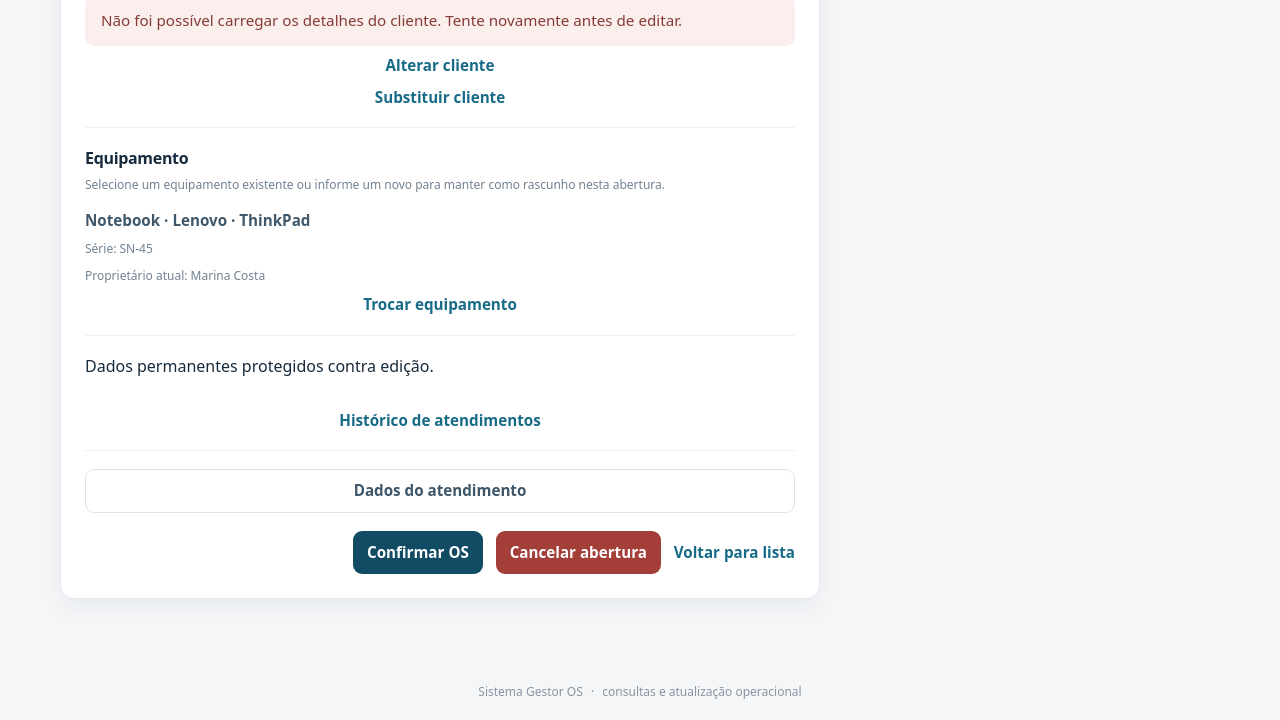
Test: confirma a abertura e navega ao detalhe, que busca a OS novamente por publicId
(page scrolled)
Click the button "Confirmar OS" at (418, 553), box [353, 531, 483, 574]
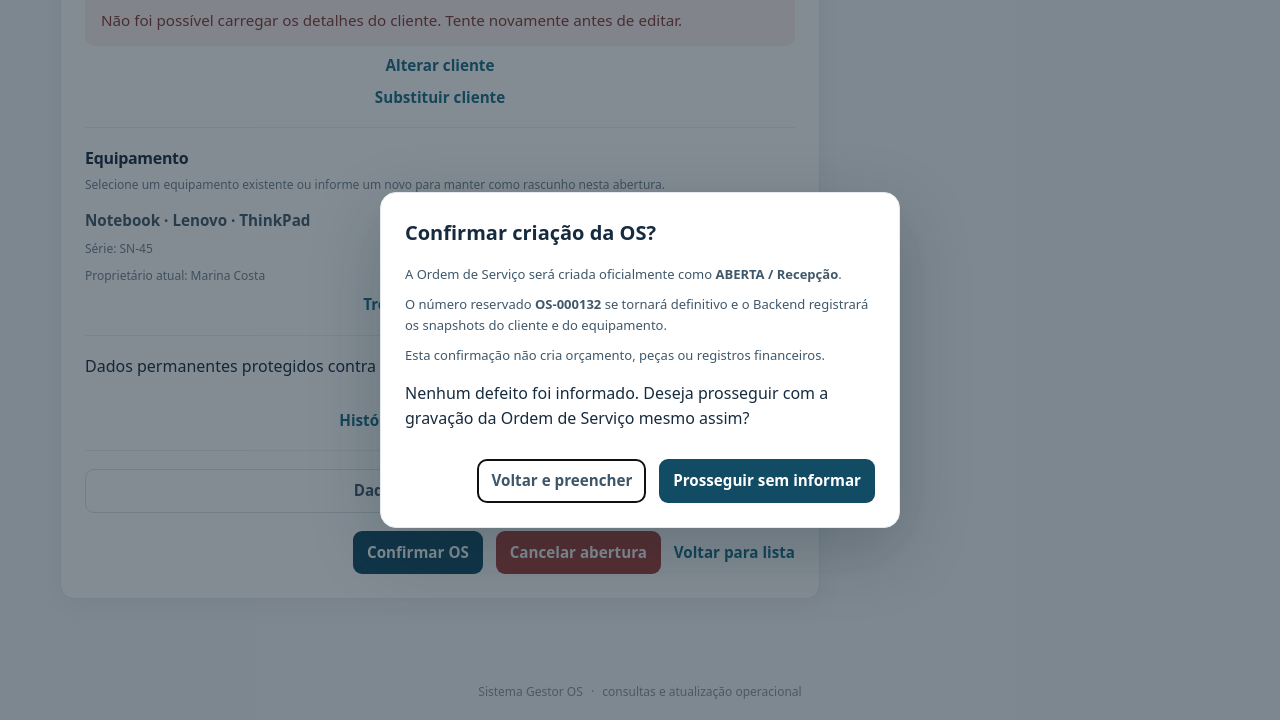
Click the button "Prosseguir sem informar" at (767, 481), box [659, 459, 875, 503]
(page scrolled)
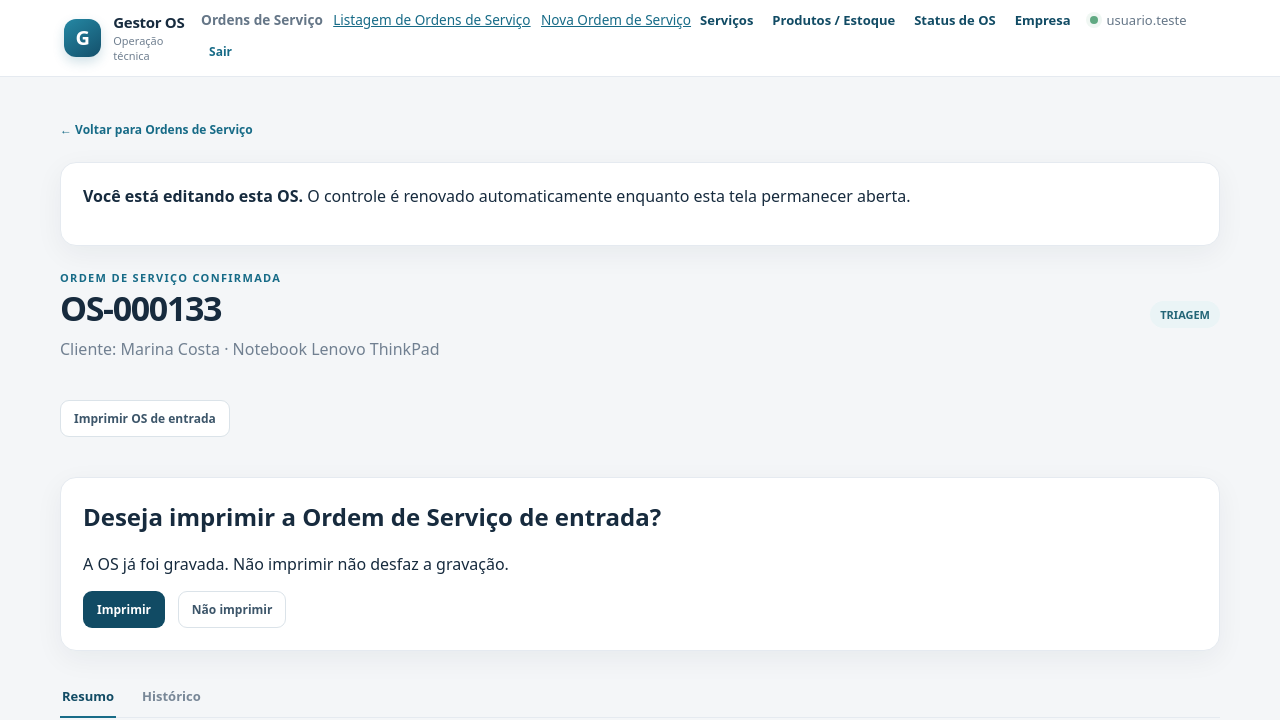
Result: the heading "OS-000133" is shown at [60, 285, 221, 331]
